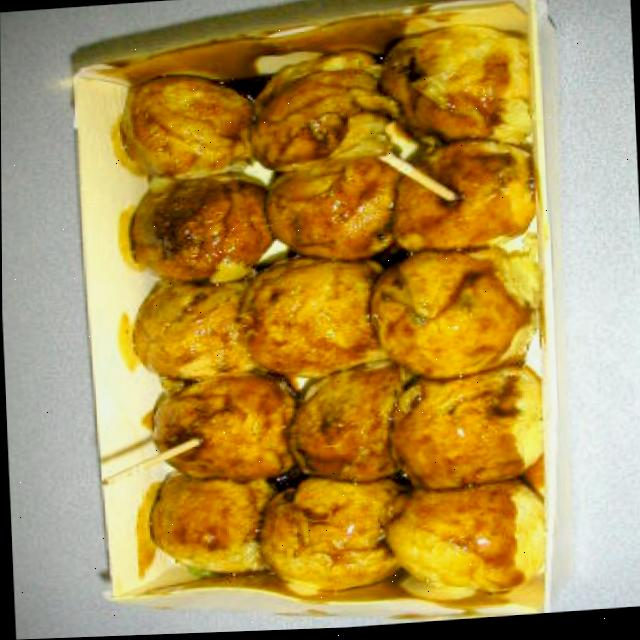炸货点心: (60, 0, 569, 631)
